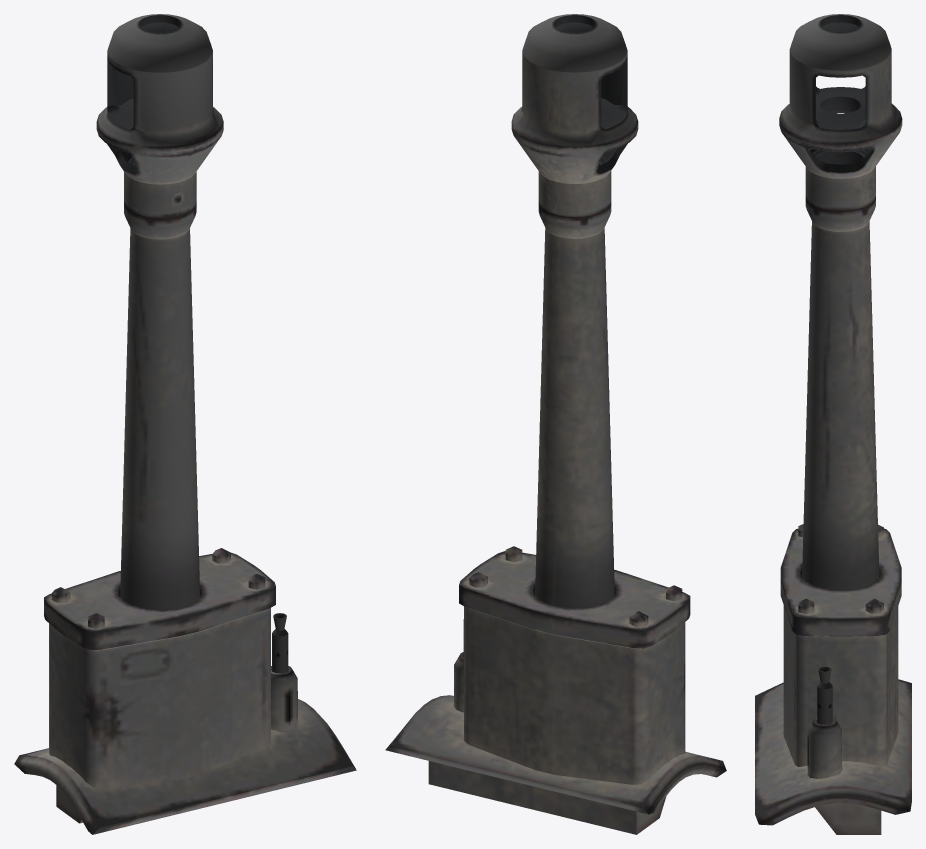
Rendered from Gun_01.glb.
3 views of the same model, side by side, from view 1: azimuth 30°, elevation 25°; view 2: azimuth 150°, elevation 25°; view 3: azimuth 270°, elevation 25° (orthographic). The views are drawn at different scales.
Parts seen in each view (by area): view 1: set_0_group_0; view 2: set_0_group_0; view 3: set_0_group_0.
Boxes of the visible parts, x1,y1,x2,y2 form: set_0_group_0: (14,14,356,834); set_0_group_0: (385,14,726,834); set_0_group_0: (755,14,911,834).
Size of the model in its own units: 0.7641 by 2.15 by 0.4057.
Materials: 1 (1 with a texture image).
